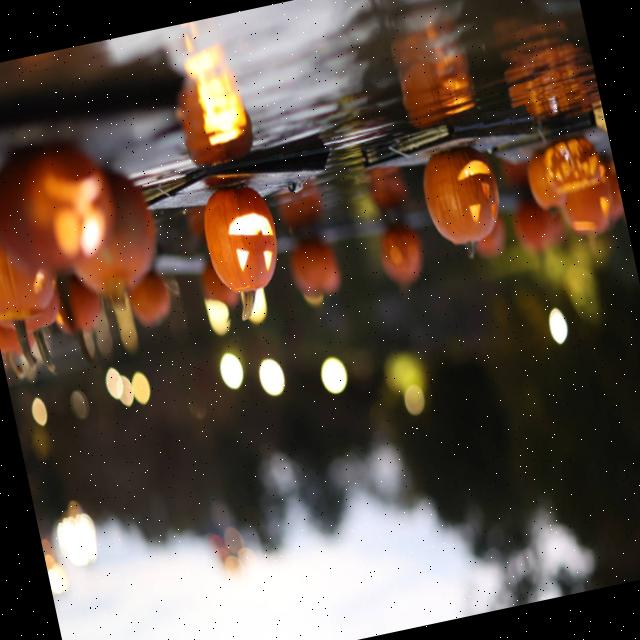pumpkin: (0, 145, 113, 271), (73, 172, 155, 305), (202, 184, 275, 318), (422, 146, 498, 257), (0, 244, 55, 365), (289, 238, 340, 304), (543, 136, 602, 193), (24, 287, 59, 371), (511, 198, 564, 252), (379, 224, 422, 284), (560, 181, 609, 233), (127, 271, 170, 326), (526, 152, 563, 209), (68, 276, 99, 328), (475, 214, 505, 257), (603, 160, 624, 221), (0, 324, 23, 377)
